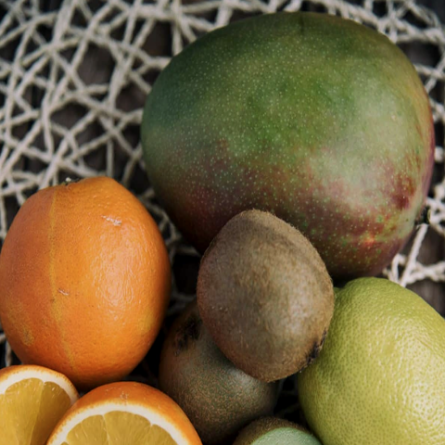kiwi: (109, 7, 445, 277), (198, 202, 332, 384)
orange: (0, 169, 176, 381)
